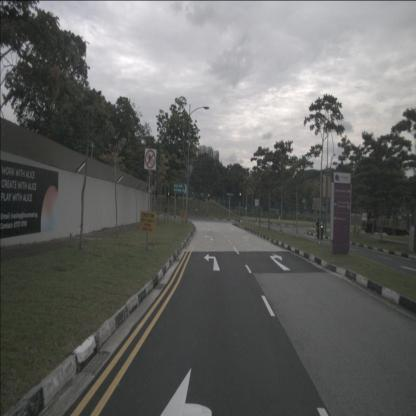vehicle-motorcycle: (316, 217, 324, 240)
vehicle-truck: (361, 209, 409, 236)
